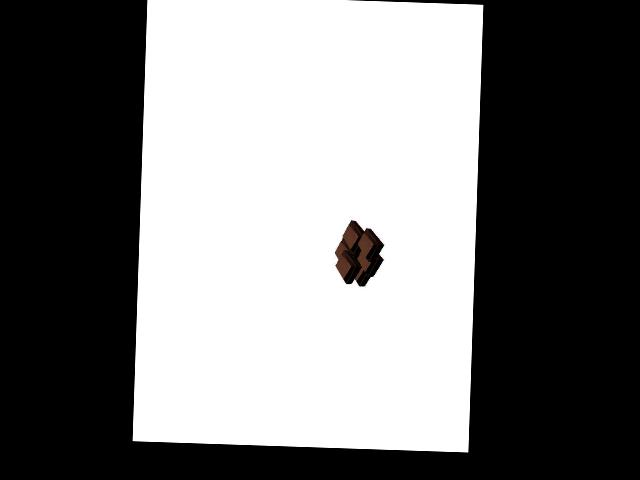chocolate: (331, 220, 382, 289)
